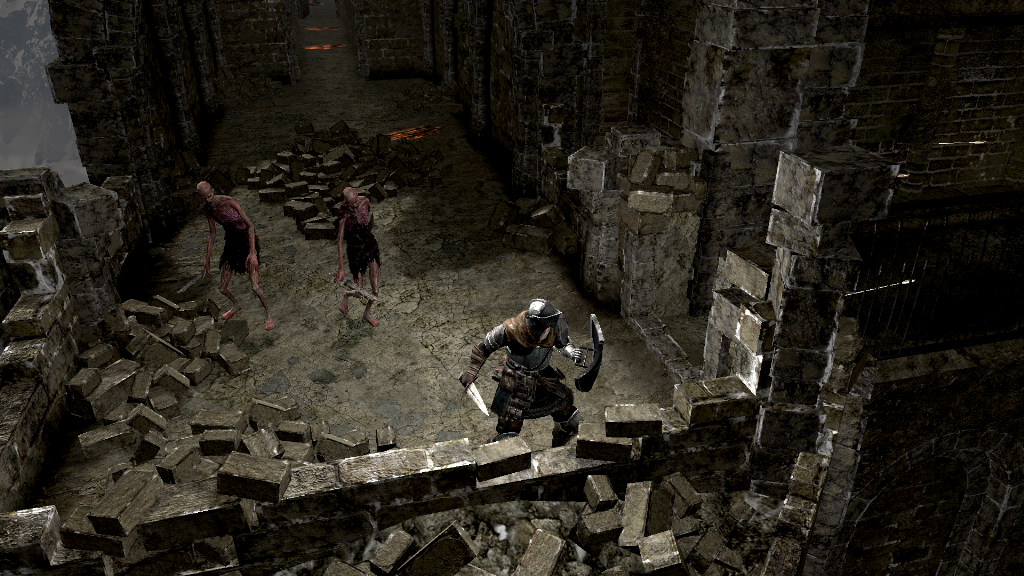hollow: (193, 178, 277, 331), (336, 187, 384, 329)
player: (456, 298, 607, 437)
